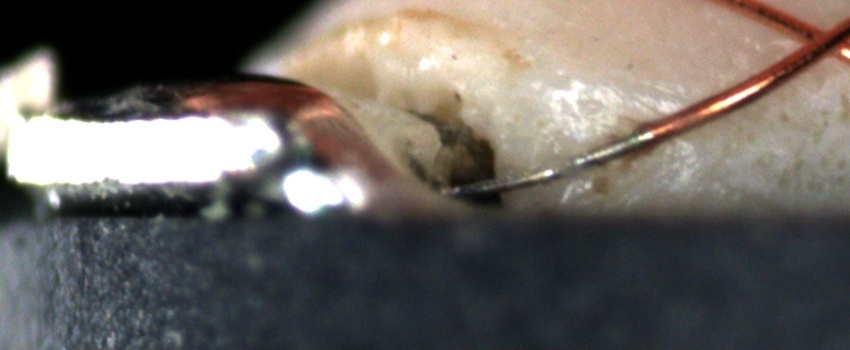CL: (783, 8, 848, 66)
TS: (434, 129, 654, 198)
TTCW: (438, 92, 724, 200)
